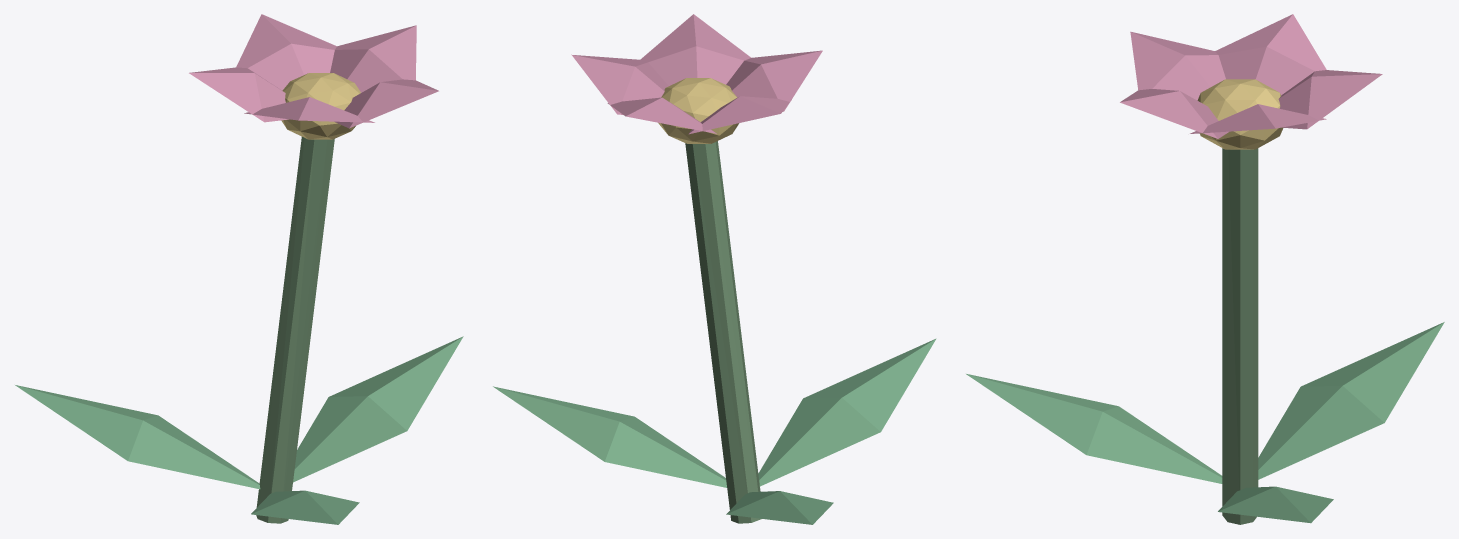
File: orchid_pink.glb
3 renders of one model, left to right at view 1: azimuth 30°, elevation 25°; view 2: azimuth 150°, elevation 25°; view 3: azimuth 270°, elevation 25°, orthographic. The views are drawn at different scales.
Visible parts, largest first — view 1: orchid_stem, orchid_leaf_0, orchid_leaf_1, orchid_petal_1, orchid_petal_0, orchid_center, orchid_petal_2, orchid_leaf_2, orchid_petal_4, orchid_petal_3; view 2: orchid_stem, orchid_leaf_2, orchid_leaf_0, orchid_petal_4, orchid_petal_3, orchid_petal_0, orchid_center, orchid_leaf_1, orchid_petal_2, orchid_petal_1; view 3: orchid_stem, orchid_leaf_1, orchid_leaf_2, orchid_petal_2, orchid_petal_3, orchid_center, orchid_petal_1, orchid_leaf_0, orchid_petal_4, orchid_petal_0.
Boxes of the visible parts, box(x1,y1,x2,y2) form: orchid_stem: box(256, 137, 334, 523); orchid_leaf_0: box(293, 336, 463, 482); orchid_leaf_1: box(15, 385, 260, 489); orchid_petal_1: box(236, 14, 336, 90); orchid_petal_0: box(330, 25, 416, 92); orchid_center: box(281, 73, 360, 139); orchid_petal_2: box(189, 67, 288, 122); orchid_leaf_2: box(251, 490, 359, 524); orchid_petal_4: box(334, 79, 438, 128); orchid_petal_3: box(244, 97, 374, 122); orchid_stem: box(685, 141, 761, 523); orchid_leaf_2: box(758, 338, 936, 486); orchid_leaf_0: box(493, 386, 726, 487); orchid_petal_4: box(640, 14, 751, 85); orchid_petal_3: box(726, 50, 822, 111); orchid_petal_0: box(571, 54, 668, 114); orchid_center: box(658, 78, 739, 143); orchid_leaf_1: box(726, 491, 833, 524); orchid_petal_2: box(688, 96, 791, 134); orchid_petal_1: box(607, 97, 716, 133); orchid_stem: box(1222, 148, 1258, 524); orchid_leaf_1: box(1258, 322, 1444, 479); orchid_leaf_2: box(966, 374, 1222, 483); orchid_petal_2: box(1215, 14, 1326, 95); orchid_petal_3: box(1130, 31, 1225, 100); orchid_center: box(1197, 79, 1283, 149); orchid_petal_1: box(1278, 70, 1382, 129); orchid_leaf_0: box(1218, 486, 1333, 523); orchid_petal_4: box(1120, 89, 1228, 138); orchid_petal_0: box(1190, 104, 1326, 133).
Bounding box in the file's own units: 0.6337 × 0.6931 × 0.6377.
